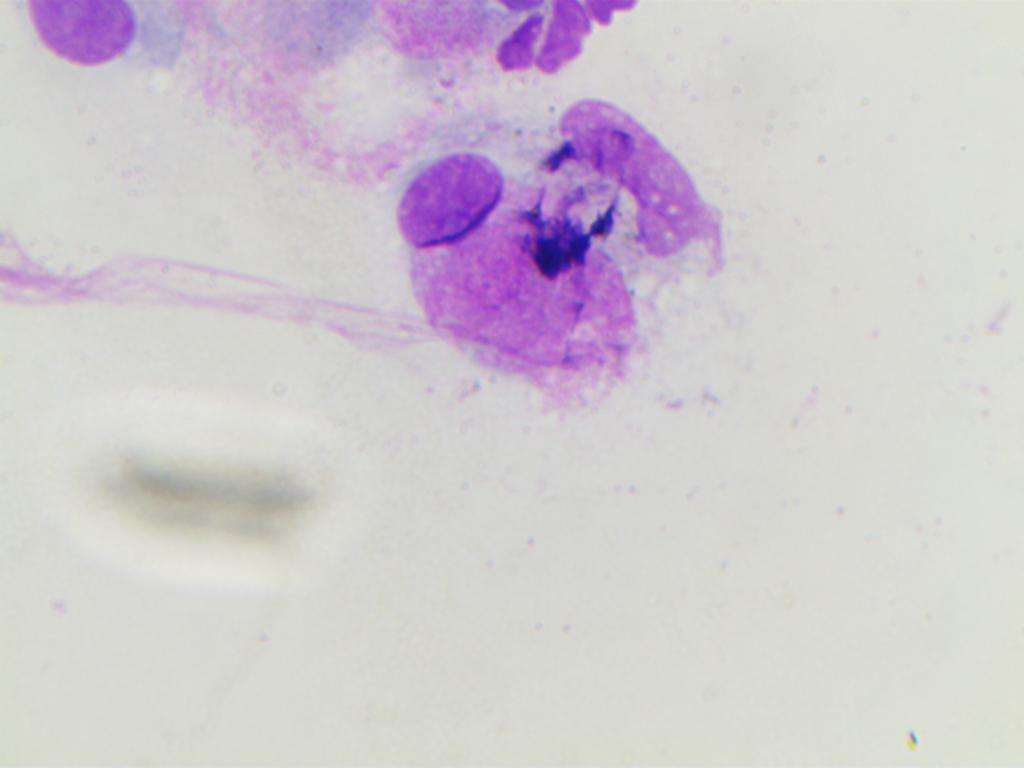artifact: (524, 141, 621, 281)
epithelial: (21, 0, 151, 69)
goblet_cell: (395, 154, 618, 362)
neutrophil: (487, 0, 653, 76)
